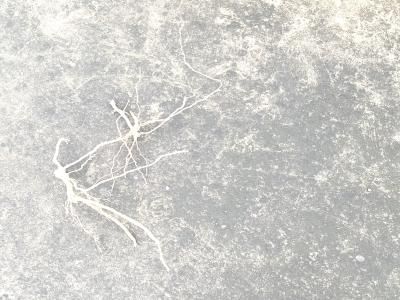Root: (53, 130, 188, 271), (110, 101, 140, 136)
